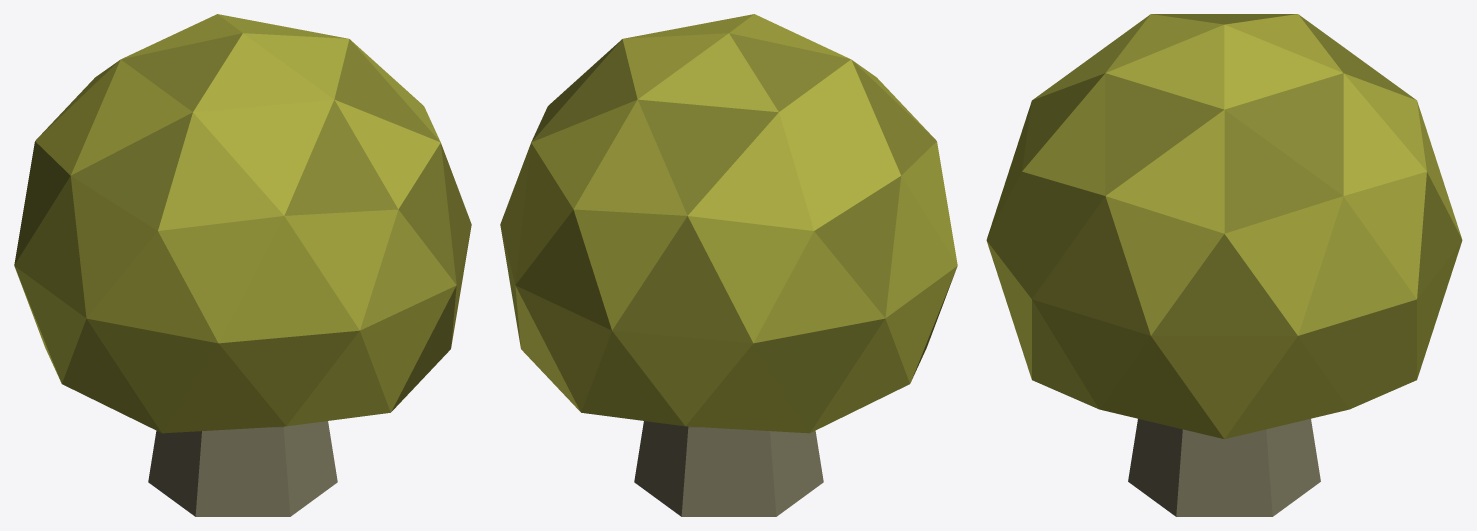
The model's file is Mushroom_1_Yellow.fbx.
3 views of the same model, side by side, from view 1: azimuth 30°, elevation 25°; view 2: azimuth 150°, elevation 25°; view 3: azimuth 270°, elevation 25° (orthographic).
Visible parts, largest first — view 1: Mushroom_1_Yellow; view 2: Mushroom_1_Yellow; view 3: Mushroom_1_Yellow.
Boxes of the visible parts, <box> form: Mushroom_1_Yellow: <box>14,14,471,516</box>; Mushroom_1_Yellow: <box>500,14,957,516</box>; Mushroom_1_Yellow: <box>986,14,1462,516</box>.
Bounding box in the file's own units: 46.91 × 52.26 × 49.33.
